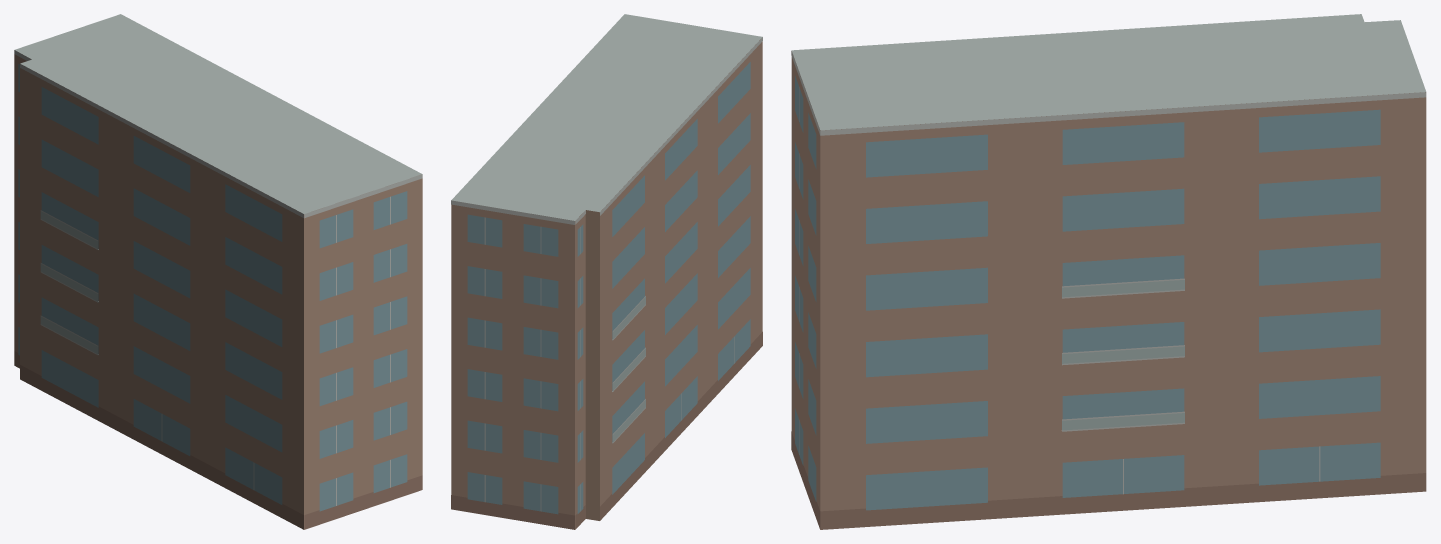
Rendered from survey-upis-32574301.glb.
3 views of the same model, side by side, from view 1: azimuth 30°, elevation 25°; view 2: azimuth 150°, elevation 25°; view 3: azimuth 270°, elevation 25° (orthographic). The views are drawn at different scales.
Visible parts, largest first — view 1: survey-upis-32574301.tmp; view 2: survey-upis-32574301.tmp; view 3: survey-upis-32574301.tmp.
Part boxes in pixels (<box>): survey-upis-32574301.tmp: <box>14,14,422,529</box>; survey-upis-32574301.tmp: <box>451,14,762,529</box>; survey-upis-32574301.tmp: <box>791,14,1426,529</box>.
Bounding box in the file's own units: 11.45 × 18.3 × 26.37.
